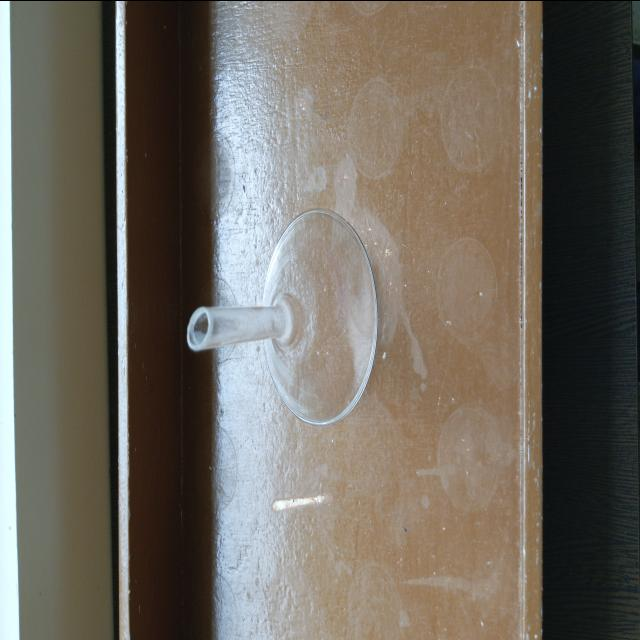funnel: (183, 198, 377, 440)
